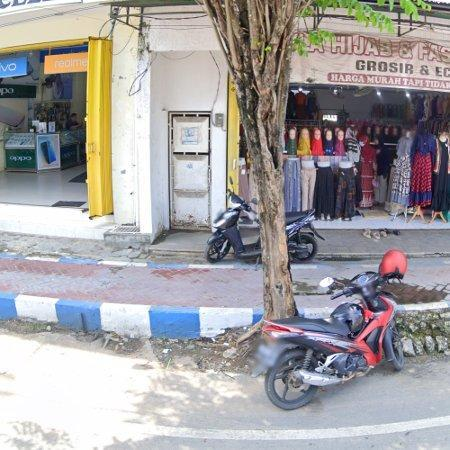motorcycles: (256, 251, 408, 410), (206, 194, 262, 263), (286, 211, 324, 261)
